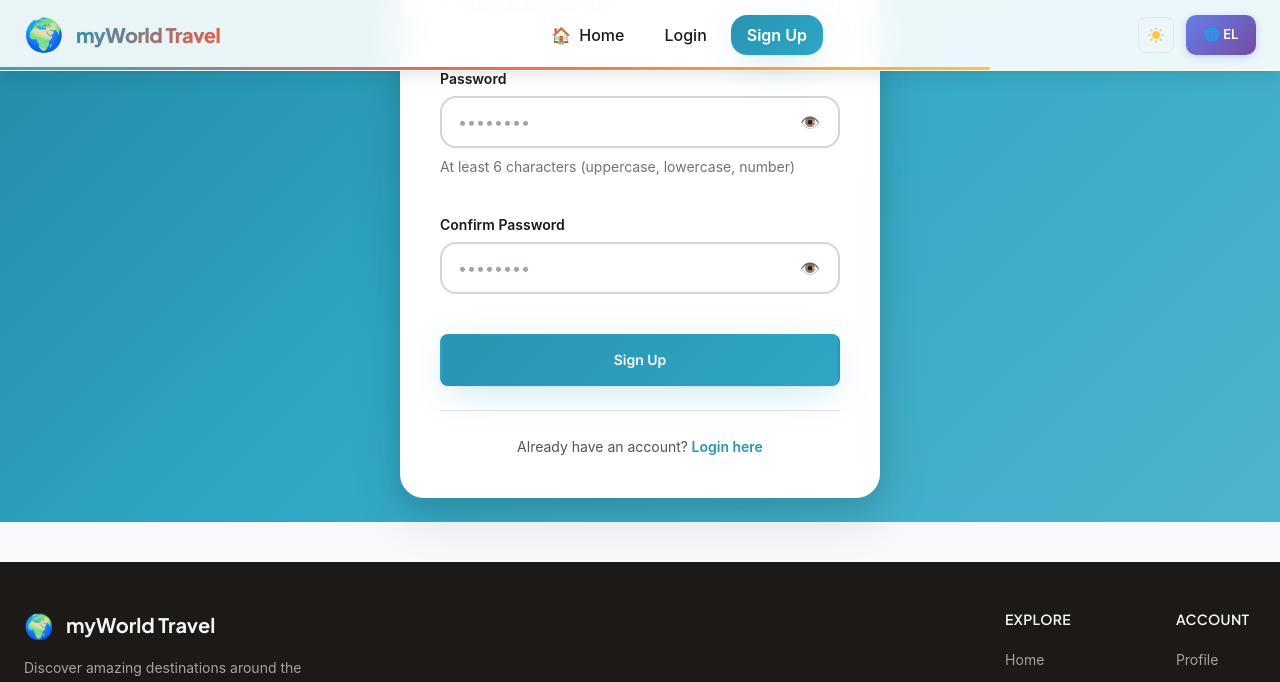
it: Authentication Validation Errors › Signup Validation Errors › should show required field errors for empty form submission
(page scrolled)
Click the button with test id "btn-submit" at (640, 360), box [440,334,840,386]
(page scrolled)
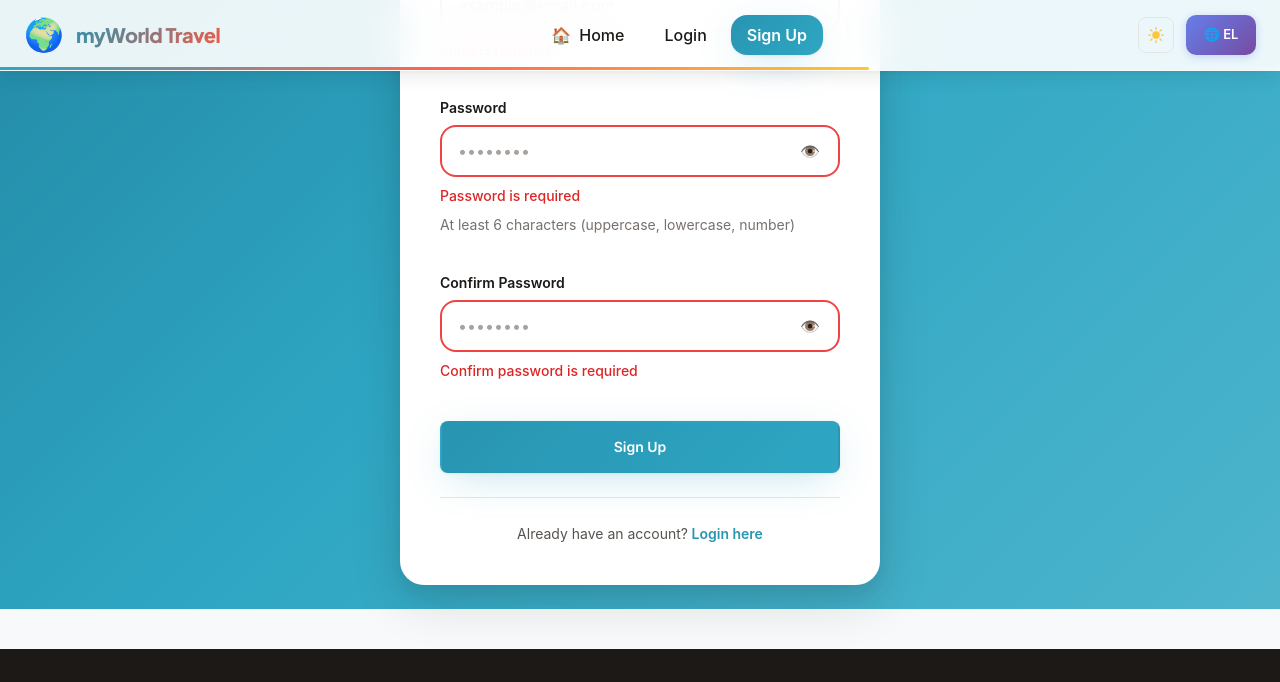
Expected: the text with test id "password" reads "Password is required", [440,187,580,204]
Expected: the text with test id "confirmPassword" reads "Confirm password is required", [440,362,638,379]
